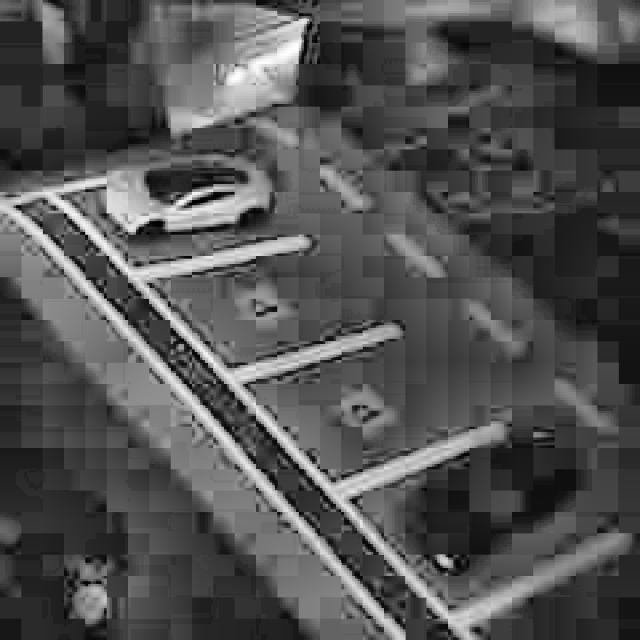car: (400, 419, 568, 584), (97, 153, 278, 252)
